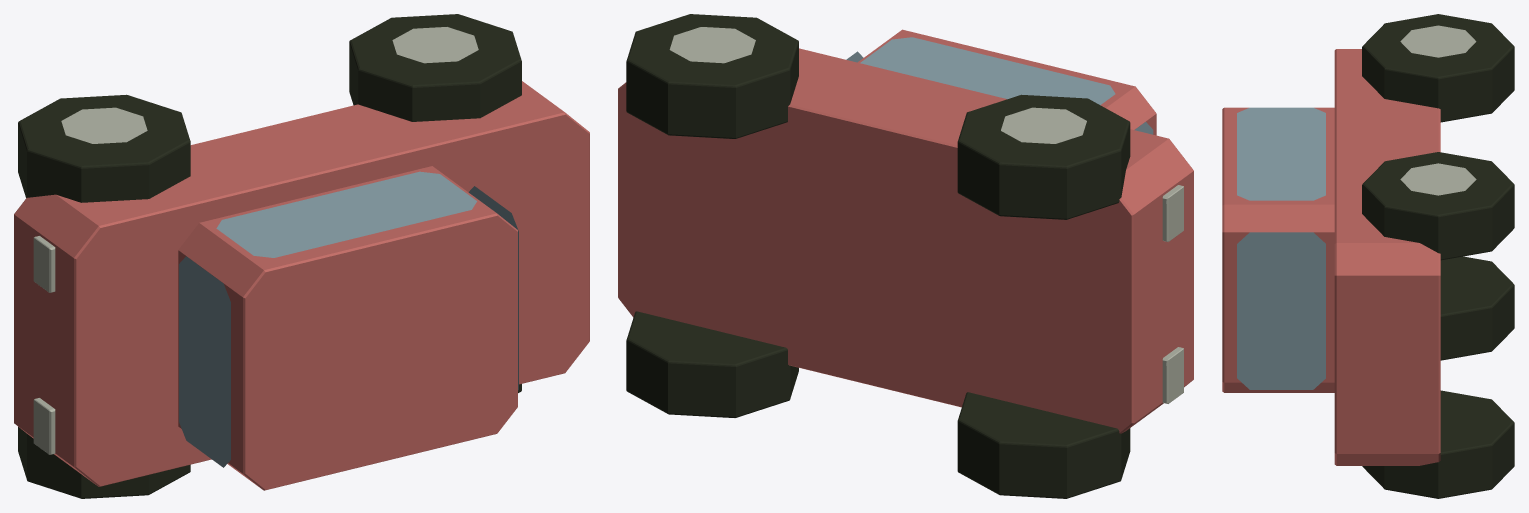
Rendered from toy_car.glb.
3 views of the same model, side by side, from view 1: azimuth 30°, elevation 25°; view 2: azimuth 150°, elevation 25°; view 3: azimuth 270°, elevation 25° (orthographic). The views are drawn at different scales.
Parts seen in each view (by area): view 1: toy_car; view 2: toy_car; view 3: toy_car.
Part boxes in pixels (x1,y1,x2,y2): toy_car: (14, 14, 589, 498); toy_car: (618, 14, 1193, 498); toy_car: (1222, 14, 1514, 498).
Bounding box in the file's own units: 0.1217 × 0.076 × 0.069.
